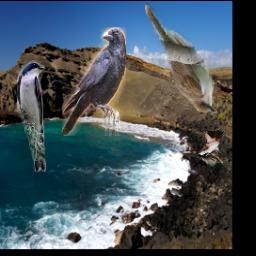Crow: (62, 27, 126, 136)
Cuckoo: (144, 4, 216, 113)
Swallow: (16, 61, 47, 173), (197, 130, 232, 171)
